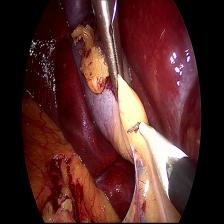Grasper: (87, 0, 136, 101)
Hook: (123, 119, 188, 187)
